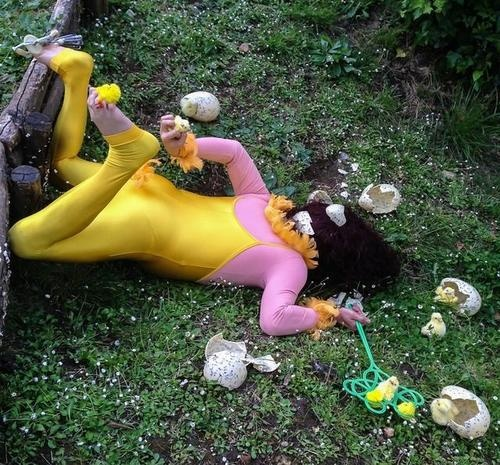falling: (5, 23, 400, 383)
